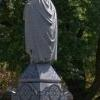Statue: (13, 4, 67, 83)
